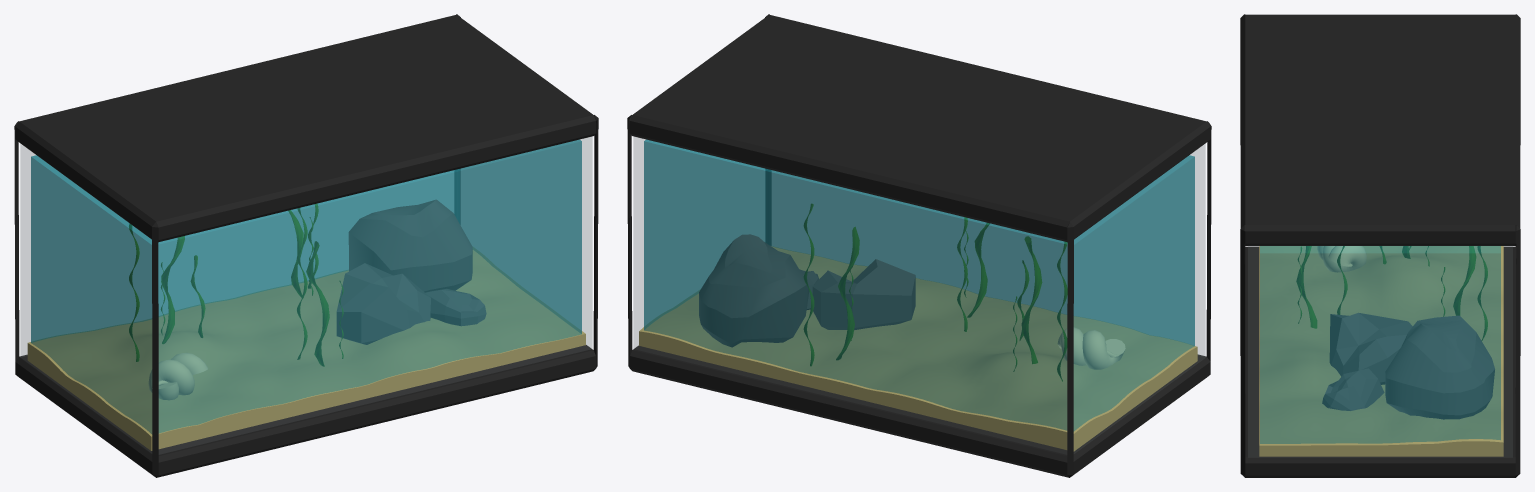
File: fishless_aquarium.glb
3 views of the same model, side by side, from view 1: azimuth 30°, elevation 25°; view 2: azimuth 150°, elevation 25°; view 3: azimuth 270°, elevation 25° (orthographic).
Parts seen in each view (by area): view 1: polySurface35; view 2: polySurface35; view 3: polySurface35.
Part boxes in pixels (left/top/right/bottom): polySurface35: left=14, top=14, right=598, bottom=477; polySurface35: left=627, top=14, right=1211, bottom=477; polySurface35: left=1240, top=14, right=1520, bottom=477.
Bounding box in the file's own units: 0.1207 × 0.0663 × 0.0666.
